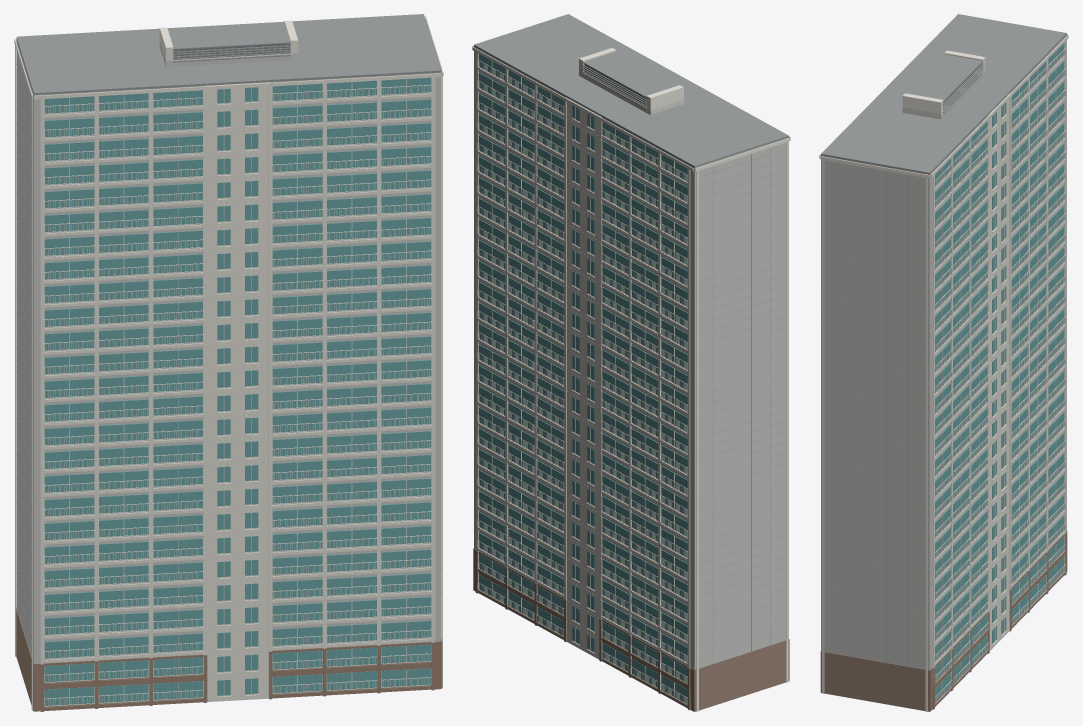
The model's file is bespoke-jamsil-els-168.glb.
3 views of the same model, side by side, from view 1: azimuth 30°, elevation 25°; view 2: azimuth 150°, elevation 25°; view 3: azimuth 270°, elevation 25° (orthographic). The views are drawn at different scales.
Visible parts, largest first — view 1: Els168_editable_Els168_turquoise_balcony_glazing, Els168_editable_Els168_light_grey_solid_wall, Els168_white_exact_chunk_4, Els168_white_exact_chunk_2, Els168_white_exact_chunk_5, Els168_white_exact_chunk_3, Els168_editable_Els168_modest_grey_flat_roof_caps, Els168_editable_Els168_muted_ground_wall, Els168_editable_Els168_narrow_charcoal_service_strips; view 2: Els168_editable_Els168_turquoise_balcony_glazing, Els168_editable_Els168_light_grey_solid_wall, Els168_white_exact_chunk_0, Els168_white_exact_chunk_2, Els168_editable_Els168_modest_grey_flat_roof_caps, Els168_white_exact_chunk_1, Els168_editable_Els168_muted_ground_wall, Els168_white_exact_chunk_5; view 3: Els168_editable_Els168_light_grey_solid_wall, Els168_editable_Els168_turquoise_balcony_glazing, Els168_editable_Els168_modest_grey_flat_roof_caps, Els168_white_exact_chunk_0, Els168_white_exact_chunk_1, Els168_white_exact_chunk_2, Els168_editable_Els168_muted_ground_wall, Els168_white_exact_chunk_5.
Boxes of the visible parts, box(x1,y1,x2,y2) form: Els168_editable_Els168_turquoise_balcony_glazing: box(44, 77, 431, 705); Els168_editable_Els168_light_grey_solid_wall: box(16, 40, 441, 678); Els168_white_exact_chunk_4: box(40, 84, 377, 693); Els168_white_exact_chunk_2: box(14, 38, 269, 710); Els168_white_exact_chunk_5: box(34, 16, 443, 698); Els168_white_exact_chunk_3: box(44, 93, 203, 703); Els168_editable_Els168_modest_grey_flat_roof_caps: box(16, 14, 441, 655); Els168_editable_Els168_muted_ground_wall: box(16, 607, 442, 711); Els168_editable_Els168_narrow_charcoal_service_strips: box(173, 43, 290, 58); Els168_editable_Els168_turquoise_balcony_glazing: box(479, 54, 687, 703); Els168_editable_Els168_light_grey_solid_wall: box(474, 47, 788, 669); Els168_white_exact_chunk_0: box(477, 53, 601, 659); Els168_white_exact_chunk_2: box(472, 47, 790, 711); Els168_editable_Els168_modest_grey_flat_roof_caps: box(474, 14, 788, 669); Els168_white_exact_chunk_1: box(476, 49, 658, 688); Els168_editable_Els168_muted_ground_wall: box(473, 548, 789, 711); Els168_white_exact_chunk_5: box(472, 45, 790, 139); Els168_editable_Els168_light_grey_solid_wall: box(821, 35, 1066, 670); Els168_editable_Els168_turquoise_balcony_glazing: box(935, 43, 1064, 702); Els168_editable_Els168_modest_grey_flat_roof_caps: box(821, 14, 1066, 669); Els168_white_exact_chunk_0: box(935, 93, 1009, 703); Els168_white_exact_chunk_1: box(933, 80, 1047, 693); Els168_white_exact_chunk_2: box(930, 34, 1068, 630); Els168_editable_Els168_muted_ground_wall: box(820, 531, 1067, 711); Els168_white_exact_chunk_5: box(819, 16, 985, 711).
Bounding box in the file's own units: 45.65 × 73.8 × 30.
